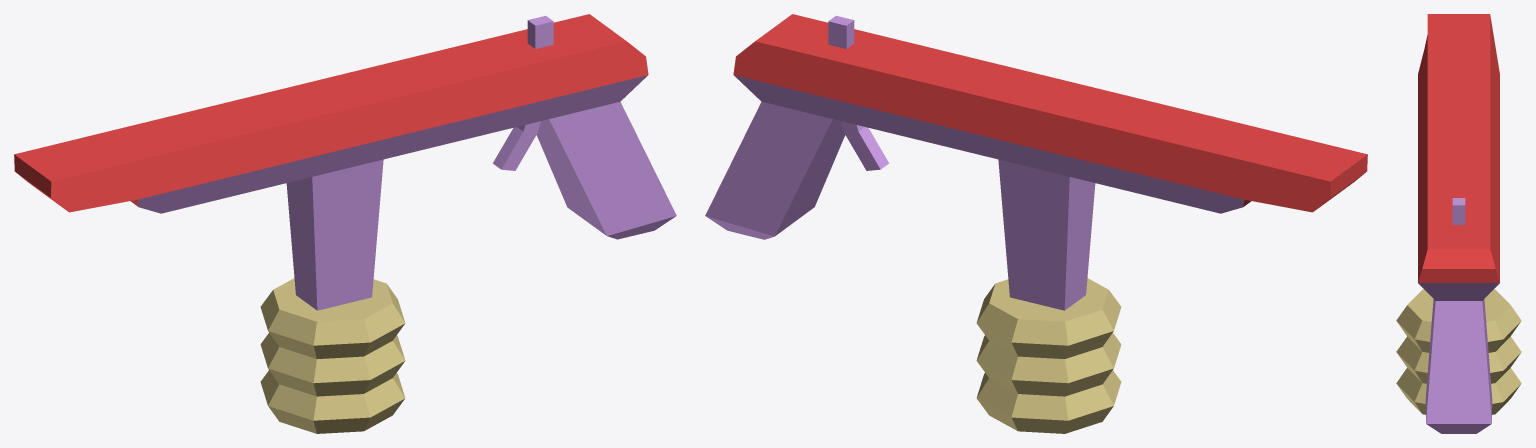
File: Weapon_Harpoon.fbx
3 views of the same model, side by side, from view 1: azimuth 30°, elevation 25°; view 2: azimuth 150°, elevation 25°; view 3: azimuth 270°, elevation 25° (orthographic). The views are drawn at different scales.
Visible parts, largest first — view 1: Weapon_Harpoon; view 2: Weapon_Harpoon; view 3: Weapon_Harpoon.
Part boxes in pixels (x1=…): Weapon_Harpoon: x1=14, y1=14, x2=676, y2=433; Weapon_Harpoon: x1=705, y1=14, x2=1367, y2=433; Weapon_Harpoon: x1=1396, y1=14, x2=1521, y2=433.
Size of the model in its own units: 8.75 by 4.52 by 1.82.
